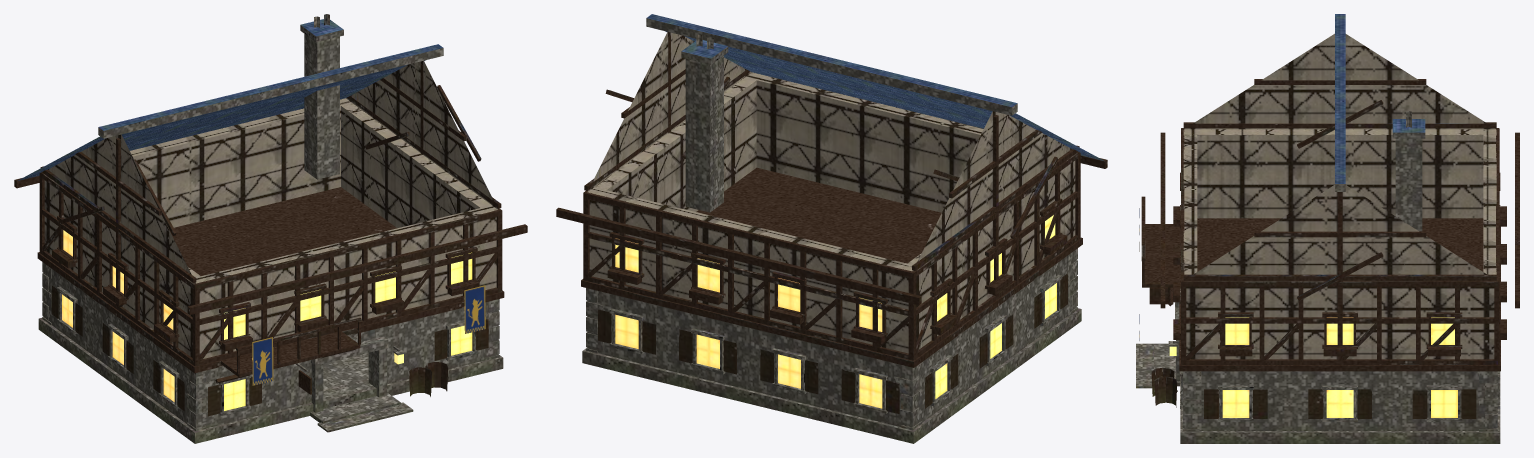
Rendered from bld_apothecary_card_lod1.glb.
3 views of the same model, side by side, from view 1: azimuth 30°, elevation 25°; view 2: azimuth 150°, elevation 25°; view 3: azimuth 270°, elevation 25° (orthographic). The views are drawn at different scales.
Visible parts, largest first — view 1: apothecary_card; view 2: apothecary_card; view 3: apothecary_card.
Boxes of the visible parts, bbox=[...] form: apothecary_card: bbox=[14, 14, 527, 443]; apothecary_card: bbox=[556, 14, 1107, 443]; apothecary_card: bbox=[1136, 14, 1519, 443].
Size of the model in its own units: 25.56 by 18.52 by 21.9.
Materials: 1 (1 with a texture image).
